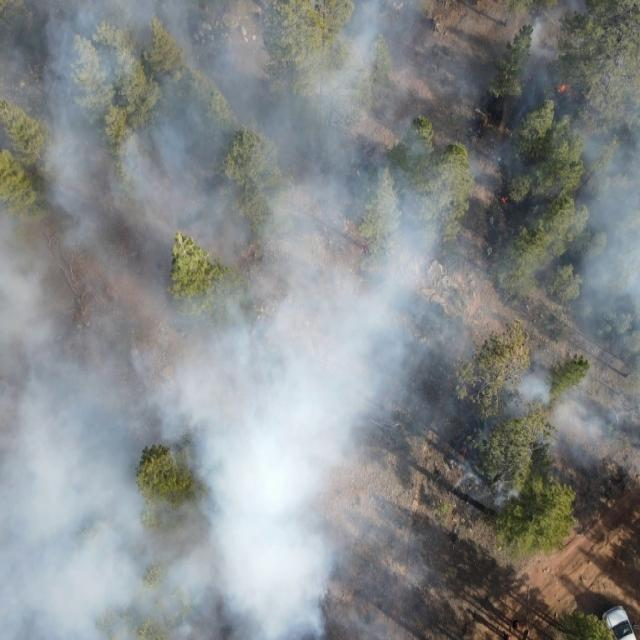fire: (556, 80, 570, 92), (498, 194, 511, 201)
smoke: (0, 0, 419, 640), (420, 0, 640, 506)
